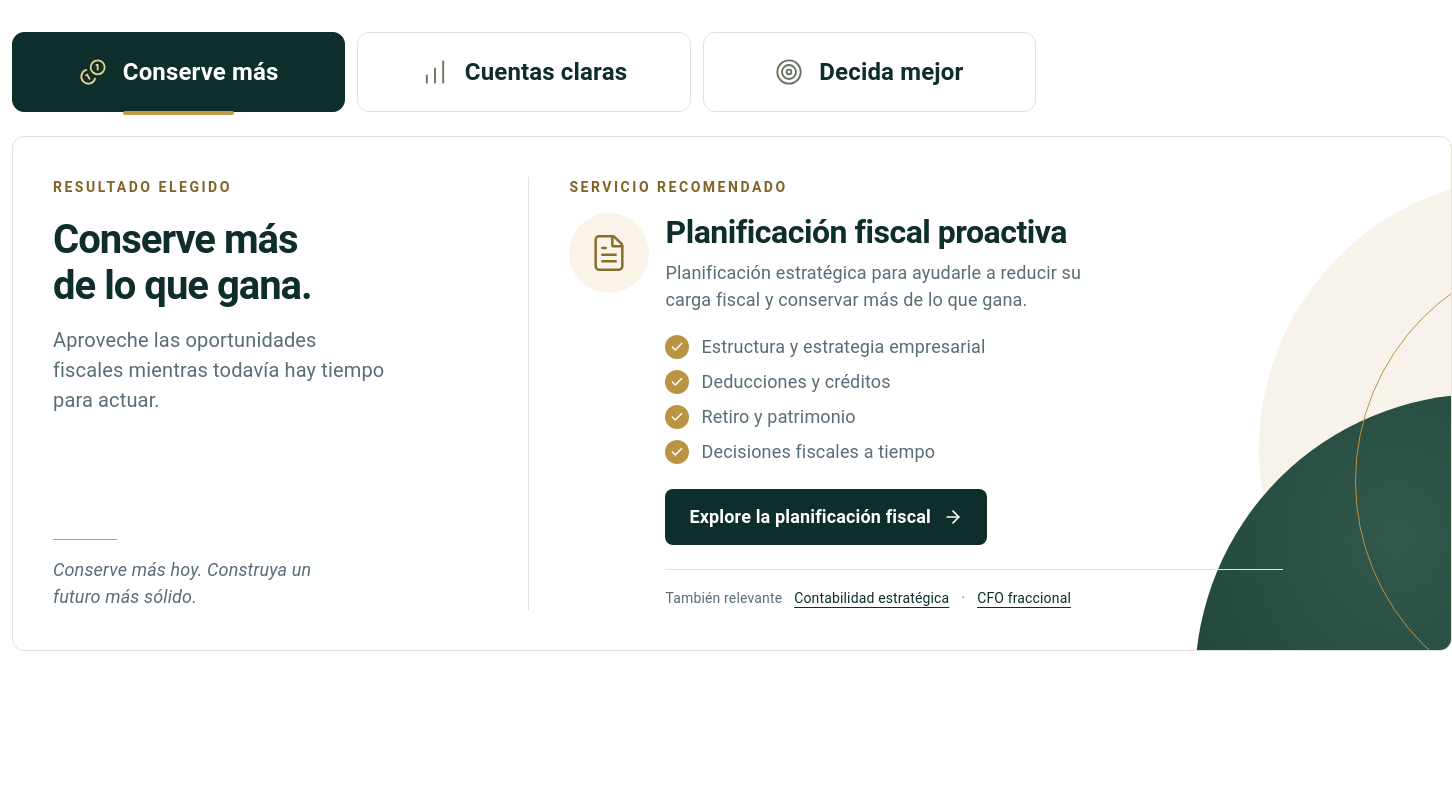
Test: homepage outcome journeys › keeps Spanish journey copy and destinations together
Click the tab "Cuentas claras" at coordinates (524, 72), box [357,32,691,112]
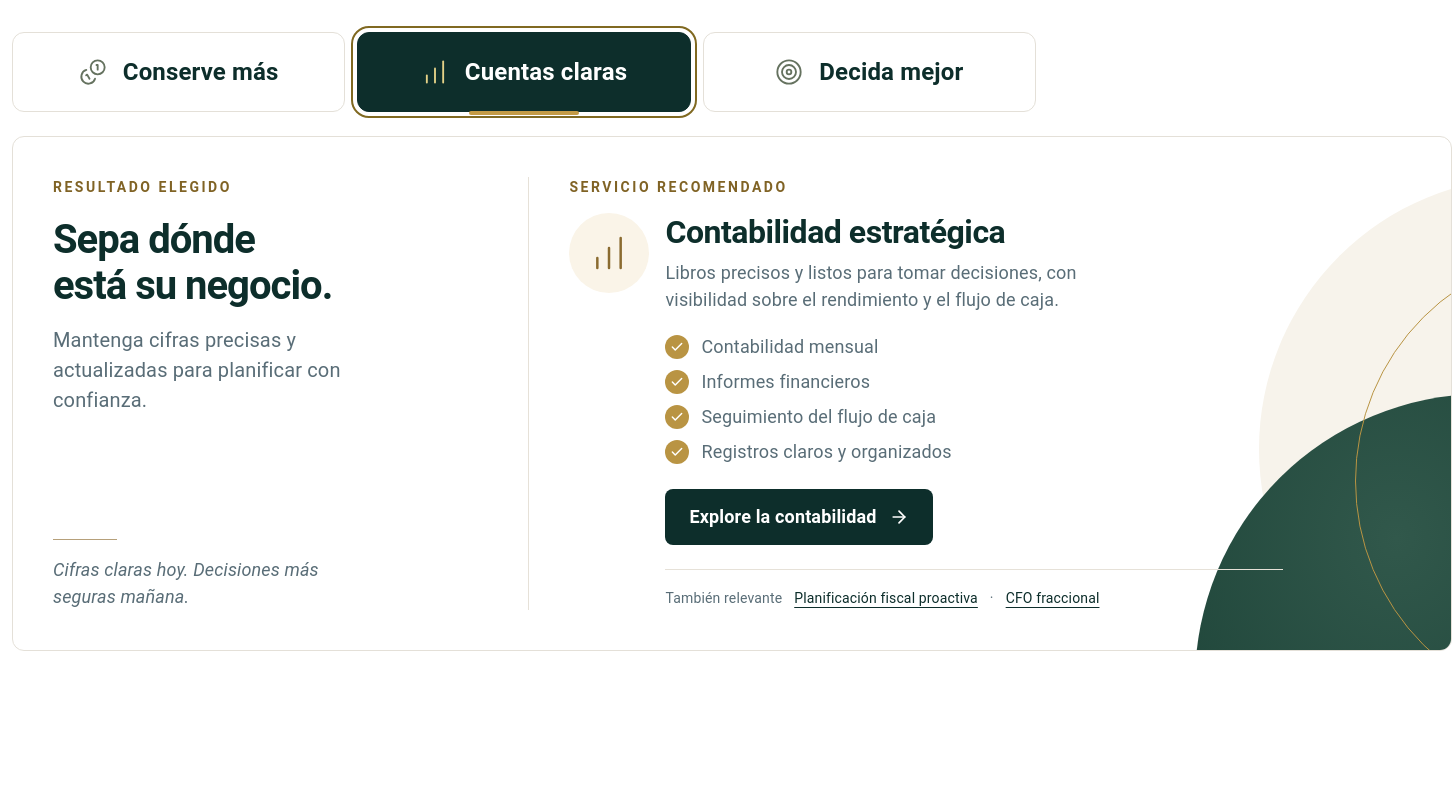
Now the heading "Sepa dónde está su negocio." is shown, box [53,216,332,309]
